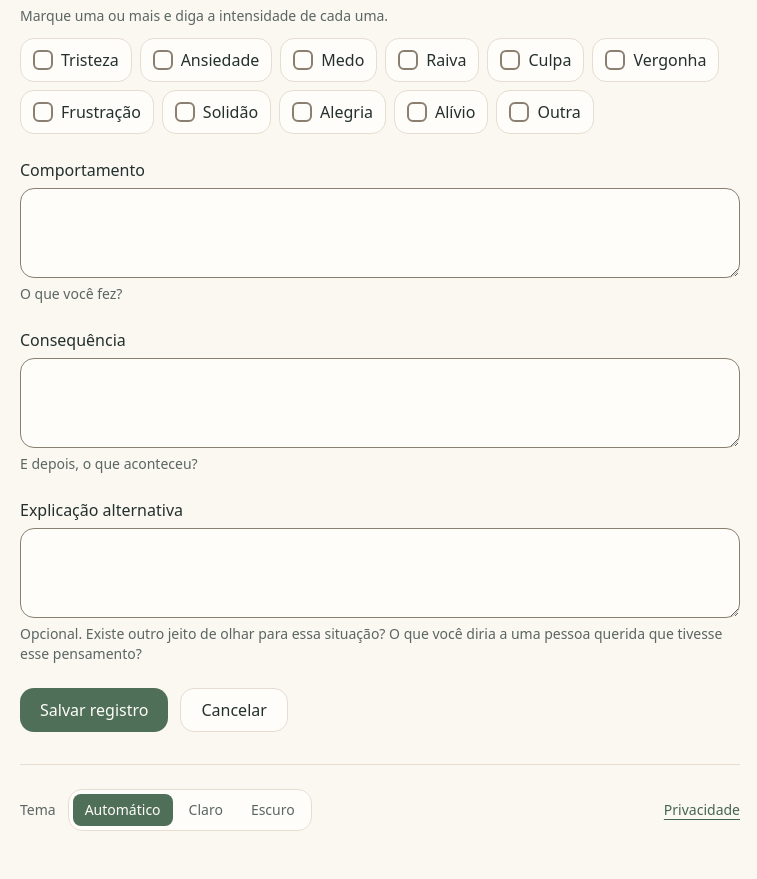
Test: /pensamentos/novo › todos os campos são obrigatórios: sem preencher, nada é enviado
(page scrolled)
Click the button "Salvar registro" at coordinates (94, 710), box [20,688,168,732]
(page scrolled)
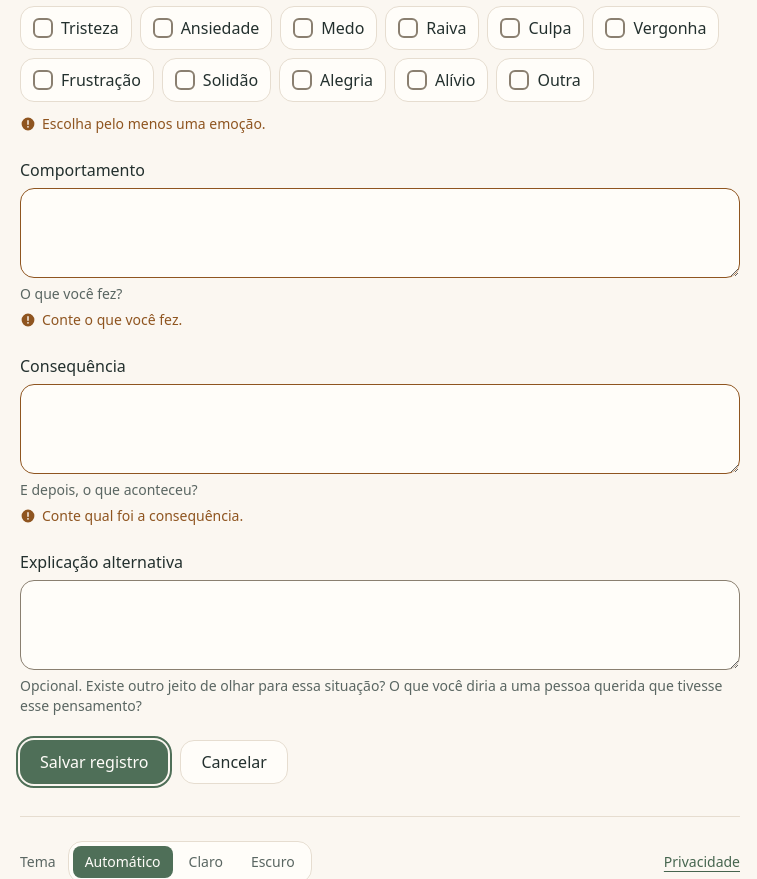
Result: the text "Escolha pelo menos uma emoção." is shown at [42,114,266,134]
Result: the text "Conte o que você fez." is shown at [42,310,182,330]
Result: the text "Conte qual foi a consequência." is shown at [42,506,243,526]
